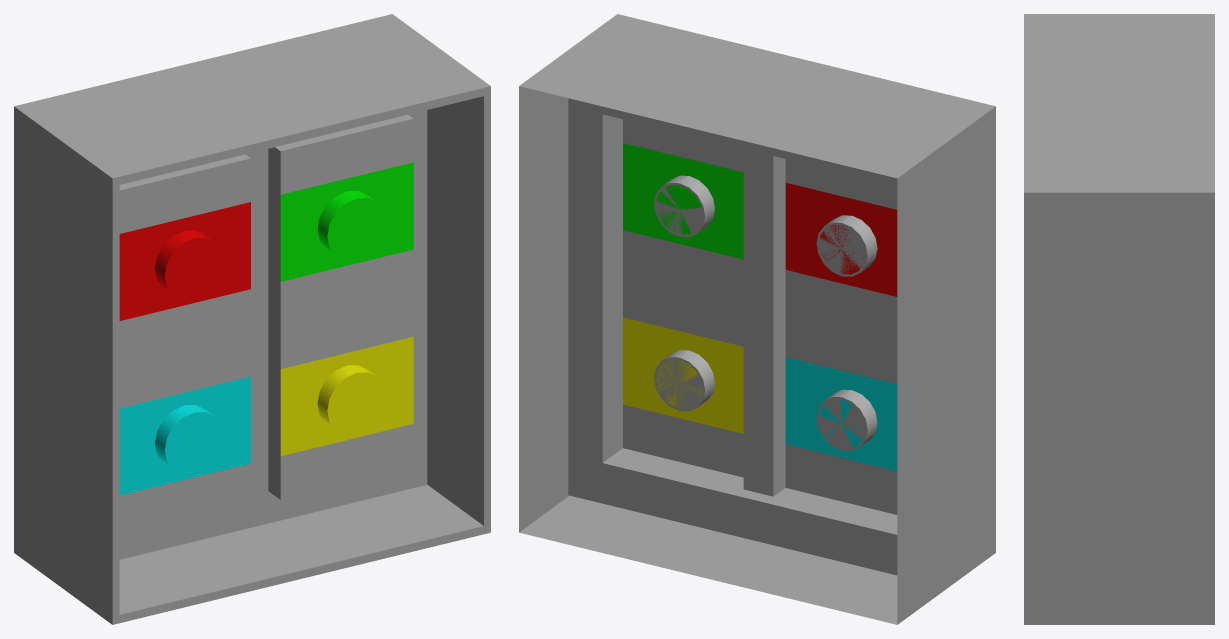
The model's file is Fusebox_test.fbx.
The picture shows the model from 3 angles, left to right: view 1: azimuth 30°, elevation 25°; view 2: azimuth 150°, elevation 25°; view 3: azimuth 270°, elevation 25°; orthographic projection. The views are drawn at different scales.
Visible parts, largest first — view 1: Fusebox_frame, Fuse_1, Fuse_4, Fuse_2, Fuse_3; view 2: Fusebox_frame, Fuse_2, Fuse_4, Fuse_1, Fuse_3; view 3: Fusebox_frame.
Boxes of the visible parts, x1,y1,x2,y2 form: Fusebox_frame: (14,14,490,624); Fuse_1: (155,230,223,300); Fuse_4: (317,365,386,434); Fuse_2: (317,191,386,260); Fuse_3: (155,405,223,474); Fusebox_frame: (519,14,995,624); Fuse_2: (657,171,718,234); Fuse_4: (656,346,718,408); Fuse_1: (820,211,880,274); Fuse_3: (819,385,881,447); Fusebox_frame: (1024,14,1214,624).
Bounding box in the file's own units: 44.35 × 50 × 20.
